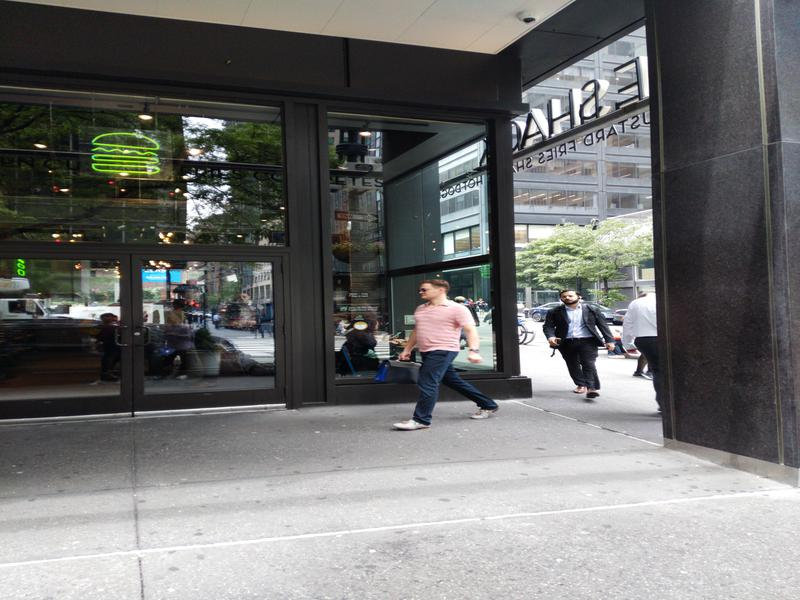double_door: (2, 240, 290, 416)
